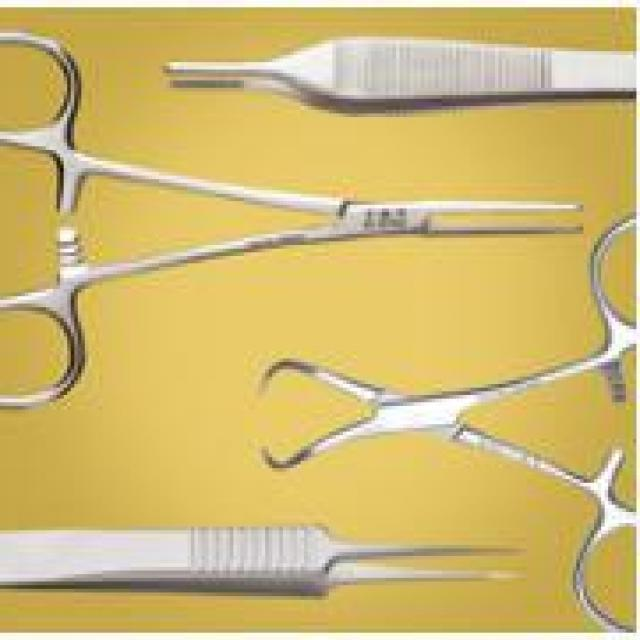Forceps: (0, 516, 527, 604), (156, 33, 636, 121)
Hemostat: (0, 26, 587, 420)
Towel_clip: (254, 208, 634, 640)
